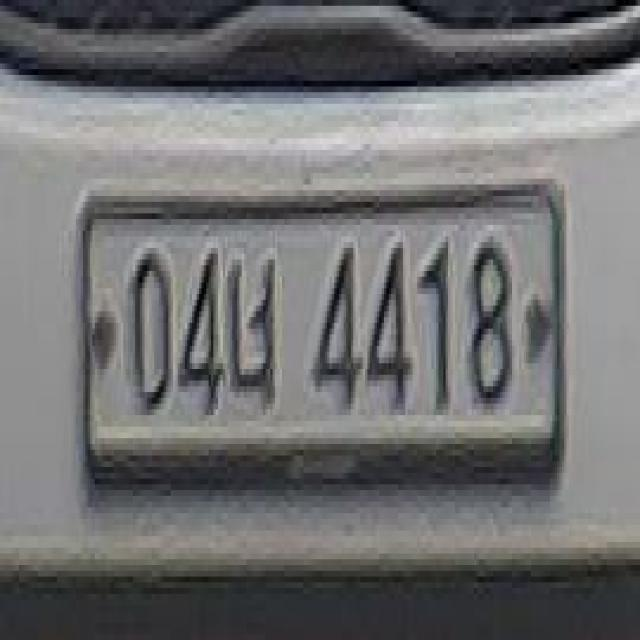illegal_plate: (76, 178, 569, 511)
